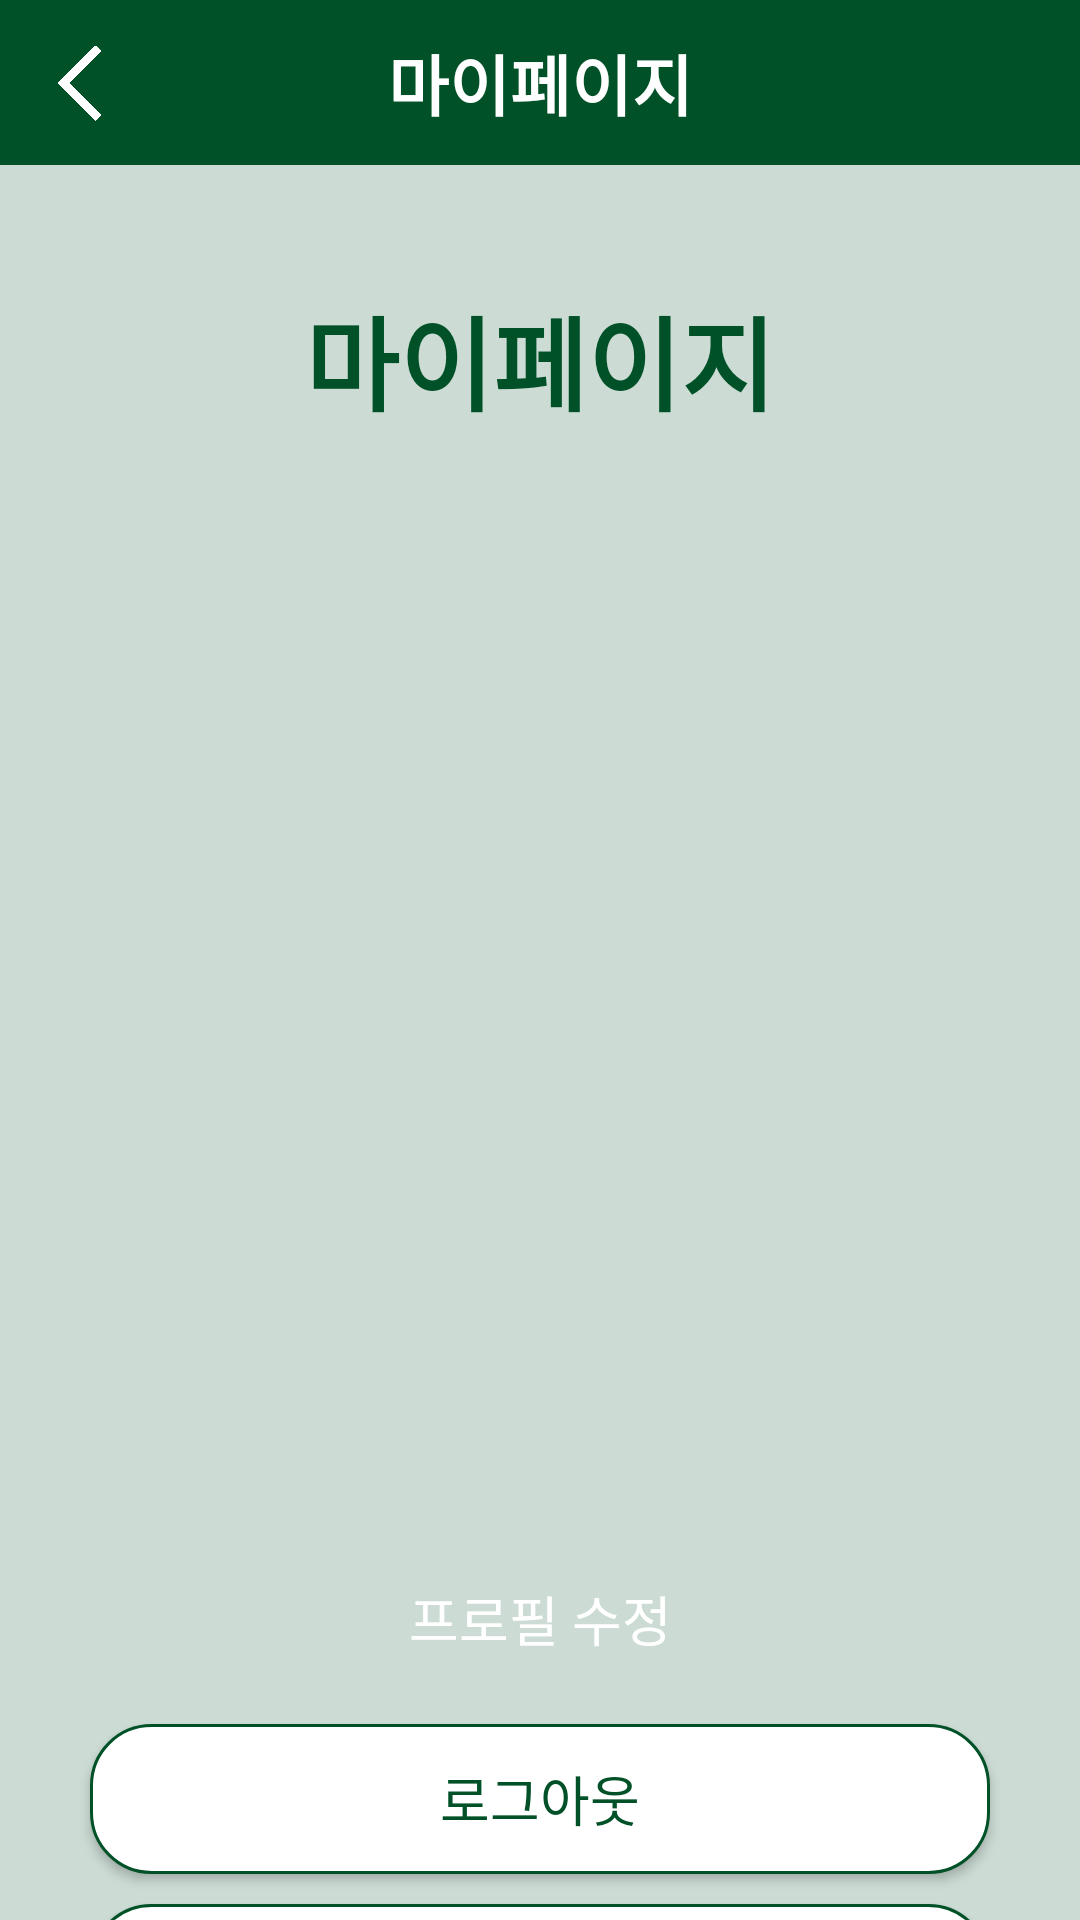

Named icons in this screenshot (1080w x 1920h) and their bounding boxes, rect(x1, y1, x2, y2):
backward: rect(58, 46, 101, 121)
